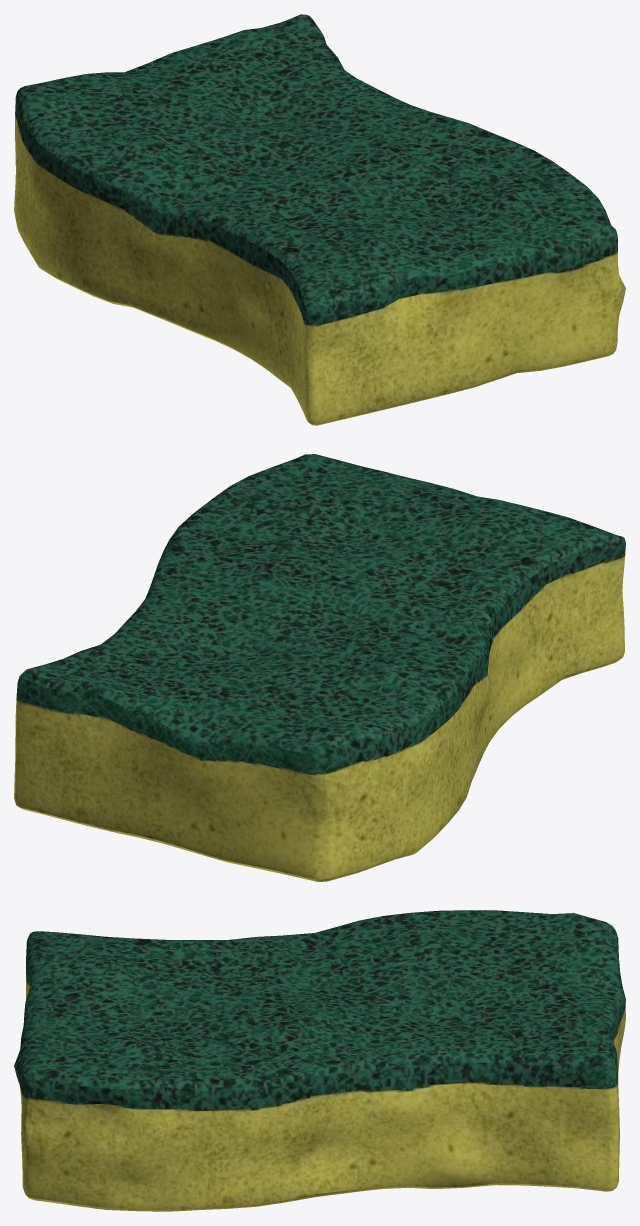
The model's file is cleaning_sponge_g01.glb.
3 renders of one model, top to bottom at view 1: azimuth 30°, elevation 25°; view 2: azimuth 150°, elevation 25°; view 3: azimuth 270°, elevation 25°, orthographic. The views are drawn at different scales.
Visible parts, largest first — view 1: part0; view 2: part0; view 3: part0.
Boxes of the visible parts, <box> form: part0: <box>14,14,625,425</box>; part0: <box>14,454,625,881</box>; part0: <box>14,910,625,1211</box>.
Bounding box in the file's own units: 0.0789 × 0.0286 × 0.1105.
Materials: 1 (1 with a texture image).
